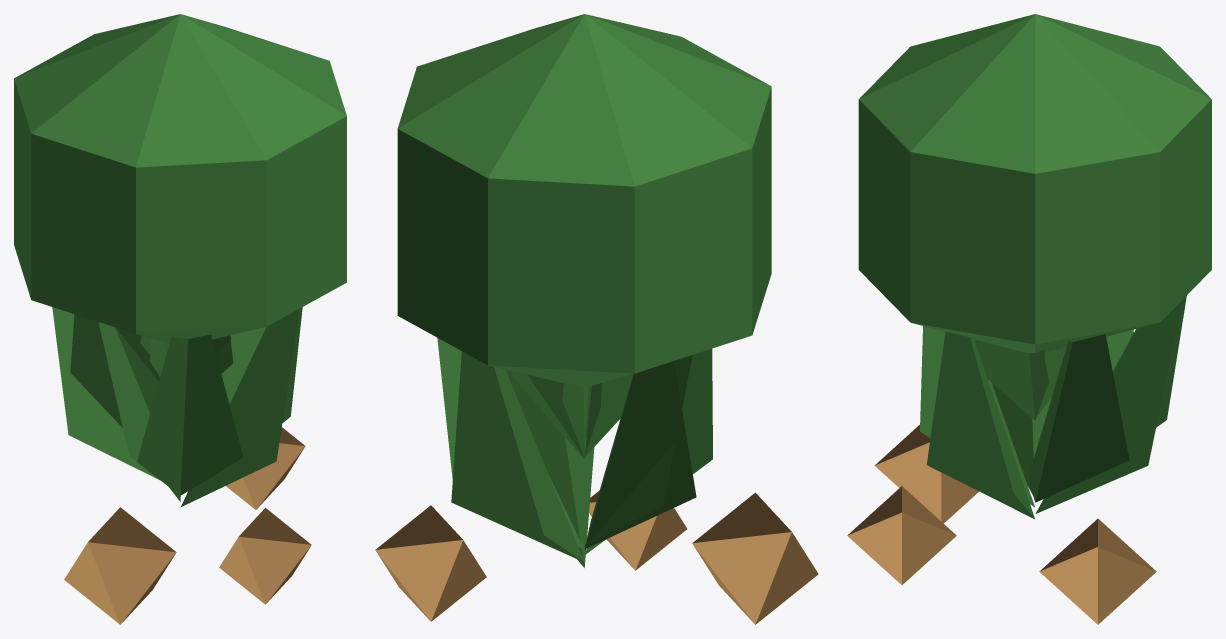
The model's file is crop_potato.glb.
The picture shows the model from 3 angles, left to right: view 1: azimuth 30°, elevation 25°; view 2: azimuth 150°, elevation 25°; view 3: azimuth 270°, elevation 25°; orthographic projection. The views are drawn at different scales.
Parts seen in each view (by area): view 1: crop_potato; view 2: crop_potato; view 3: crop_potato.
Part boxes in pixels (x1,y1,x2,y2): crop_potato: (14,14,346,624); crop_potato: (375,14,818,624); crop_potato: (847,14,1211,624).
Bounding box in the file's own units: 0.6038 × 1 × 0.5851.
